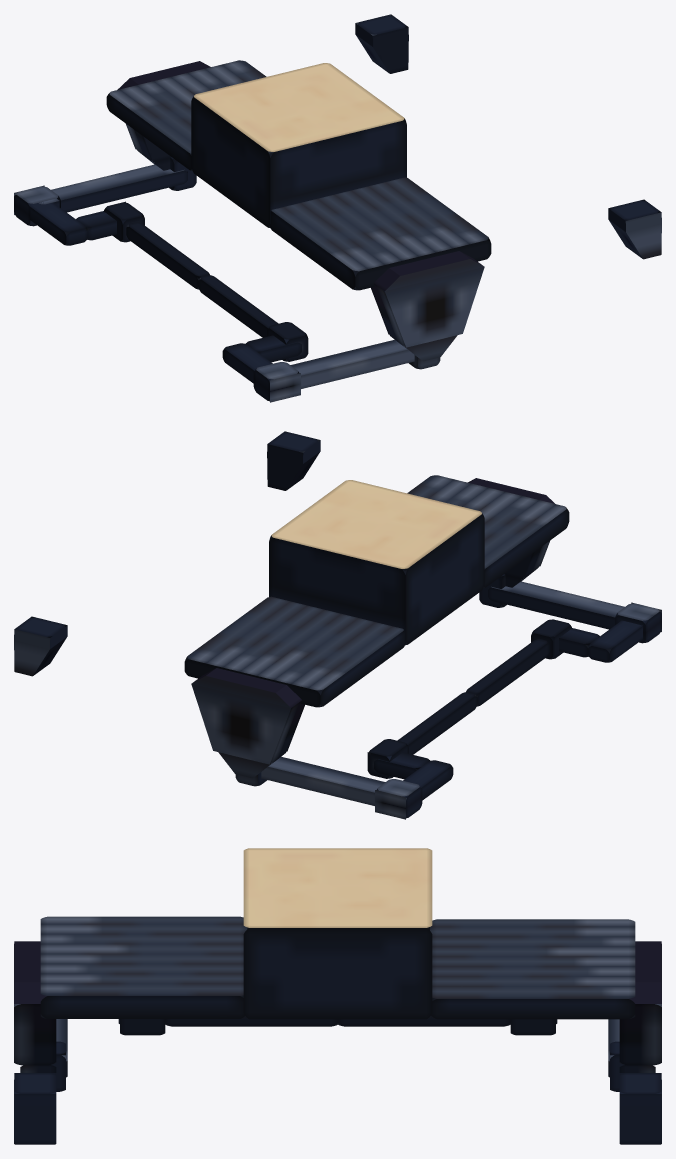
Rendered from df11g_bogey_top_hing_a.obj.
3 views of the same model, one above another, from view 1: azimuth 30°, elevation 25°; view 2: azimuth 150°, elevation 25°; view 3: azimuth 270°, elevation 25° (orthographic). The views are drawn at different scales.
Parts seen in each view (by area): view 1: primary_spring_selection_selection_selection; view 2: primary_spring_selection_selection_selection; view 3: primary_spring_selection_selection_selection.
Boxes of the visible parts, bbox=[...] form: primary_spring_selection_selection_selection: bbox=[14, 14, 661, 402]; primary_spring_selection_selection_selection: bbox=[14, 431, 661, 819]; primary_spring_selection_selection_selection: bbox=[14, 848, 661, 1144].
Size of the model in its own units: 2.81 by 1.15 by 3.43.
